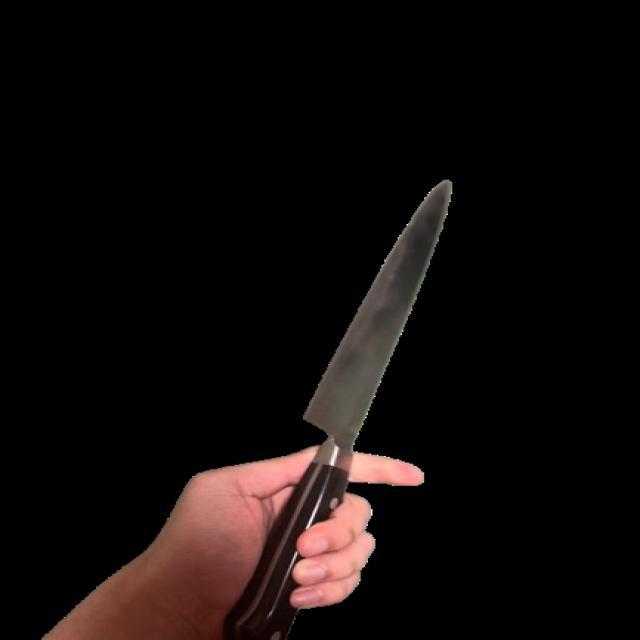knife: (224, 165, 456, 639)
